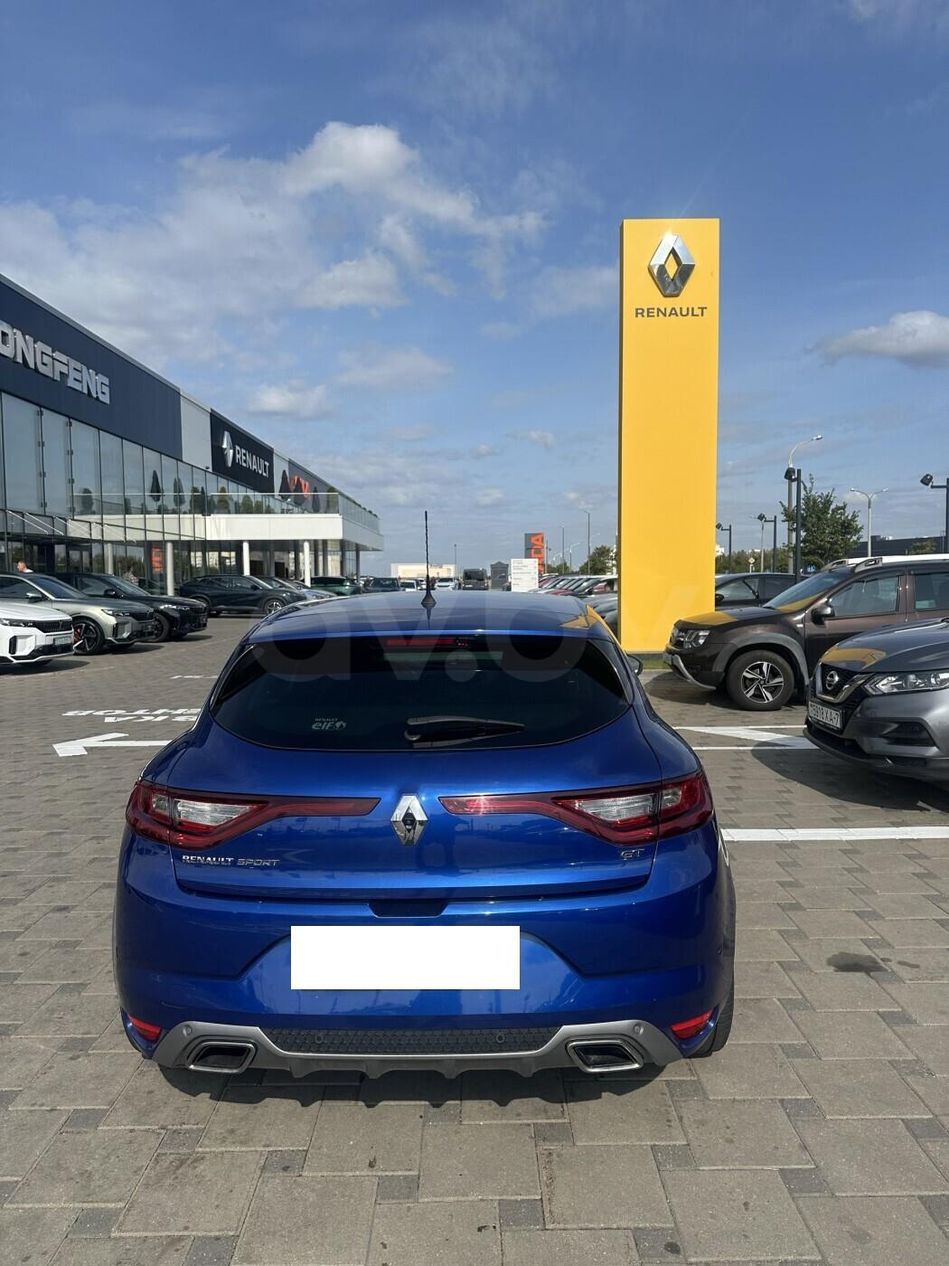Megane_2016-2020: (116, 586, 739, 1096)
